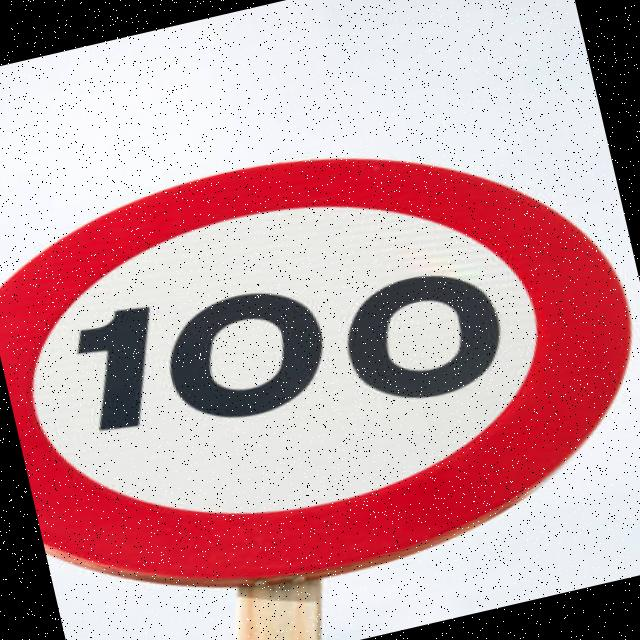speed_limit_100: (0, 80, 640, 633)
